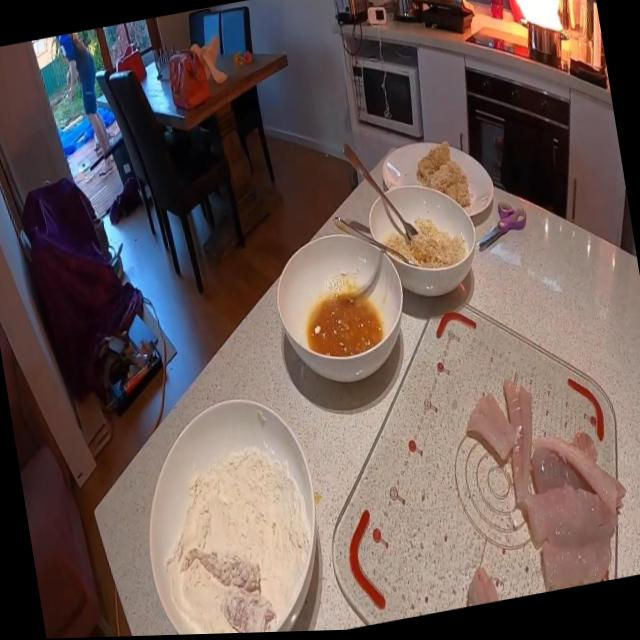fire: (503, 0, 570, 44)
